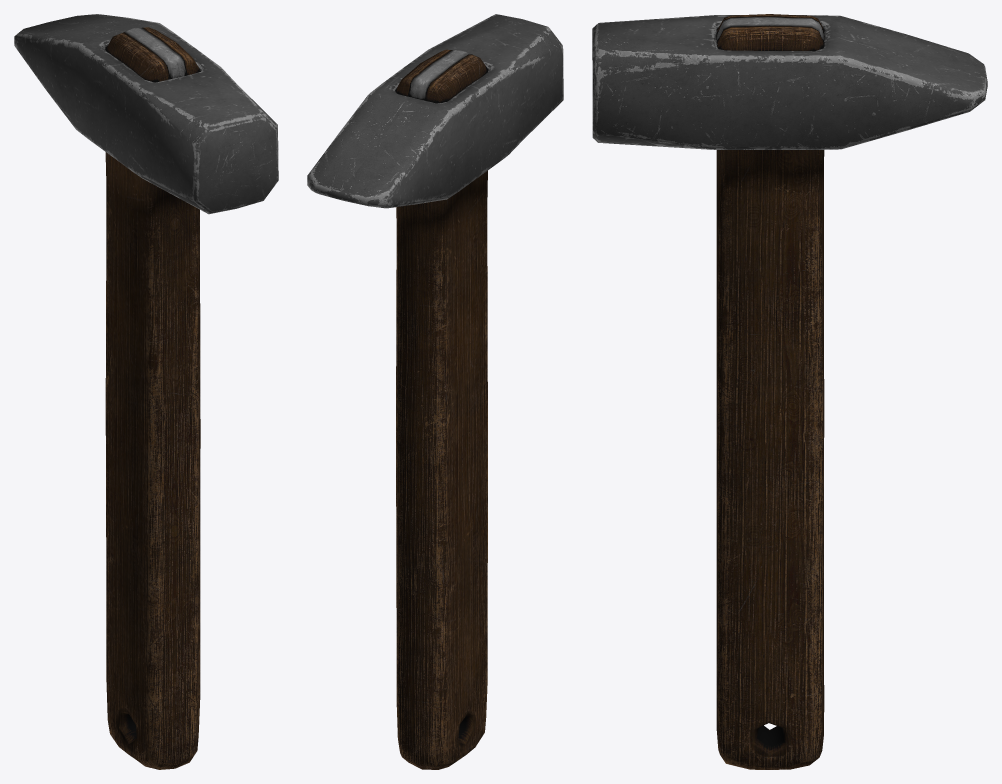
File: hammer.glb
The picture shows the model from 3 angles, left to right: view 1: azimuth 30°, elevation 25°; view 2: azimuth 150°, elevation 25°; view 3: azimuth 270°, elevation 25°; orthographic projection. The views are drawn at different scales.
Parts seen in each view (by area): view 1: Object_2; view 2: Object_2; view 3: Object_2.
Boxes of the visible parts, x1=… form: Object_2: x1=14, y1=14, x2=278, y2=769; Object_2: x1=307, y1=14, x2=563, y2=769; Object_2: x1=592, y1=14, x2=987, y2=769.
Bounding box in the file's own units: 130 × 1019 × 492.
1 material, 1 textured.
